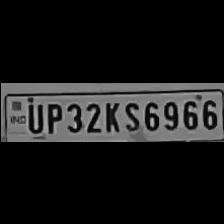2: (83, 99, 101, 133)
3: (64, 99, 82, 133)
6: (140, 97, 160, 130), (180, 96, 198, 130), (200, 96, 218, 130)
9: (160, 96, 180, 130)
K: (100, 97, 118, 132)
P: (42, 100, 62, 132)
S: (120, 97, 140, 130)
U: (24, 100, 42, 132)
